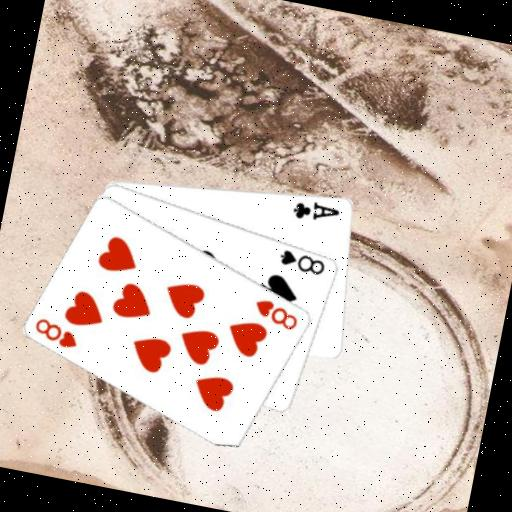8H: (249, 294, 304, 333), (29, 314, 83, 352)
8S: (275, 245, 329, 278)
AC: (289, 194, 343, 227)
